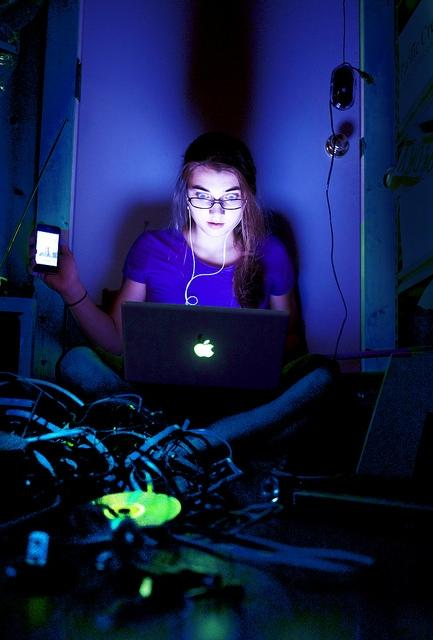apple: (194, 340, 214, 358)
